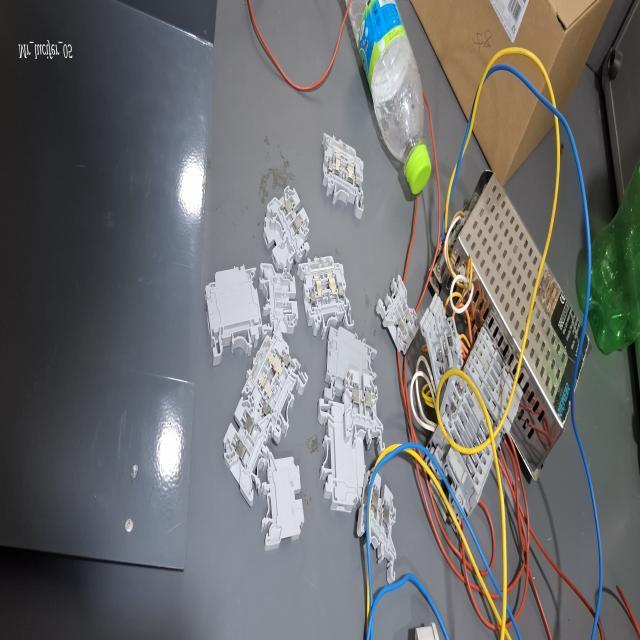Inverted: (251, 442, 311, 566)
Pass: (352, 462, 407, 592), (340, 357, 388, 463), (264, 180, 312, 268), (372, 275, 420, 355)
Reject: (257, 255, 300, 348)
